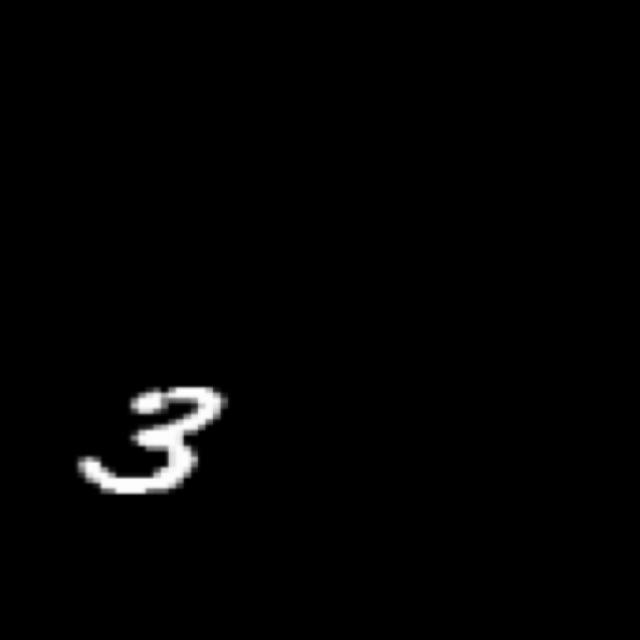three -3-: (69, 380, 238, 503)
